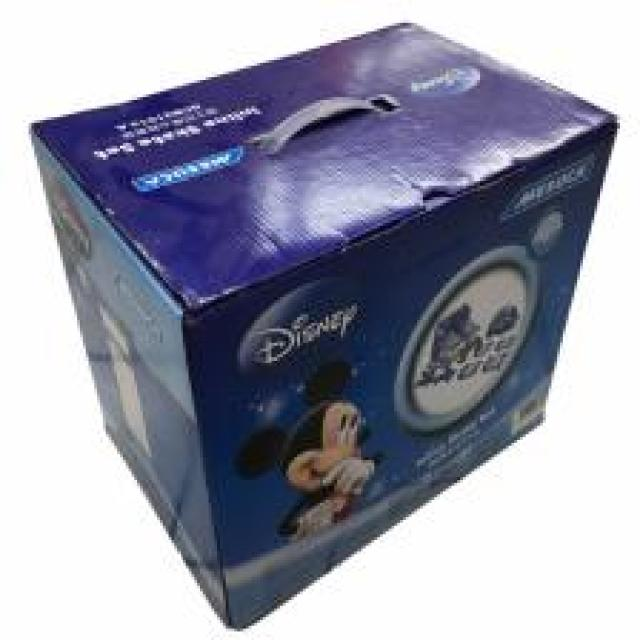box: (28, 20, 622, 634)
